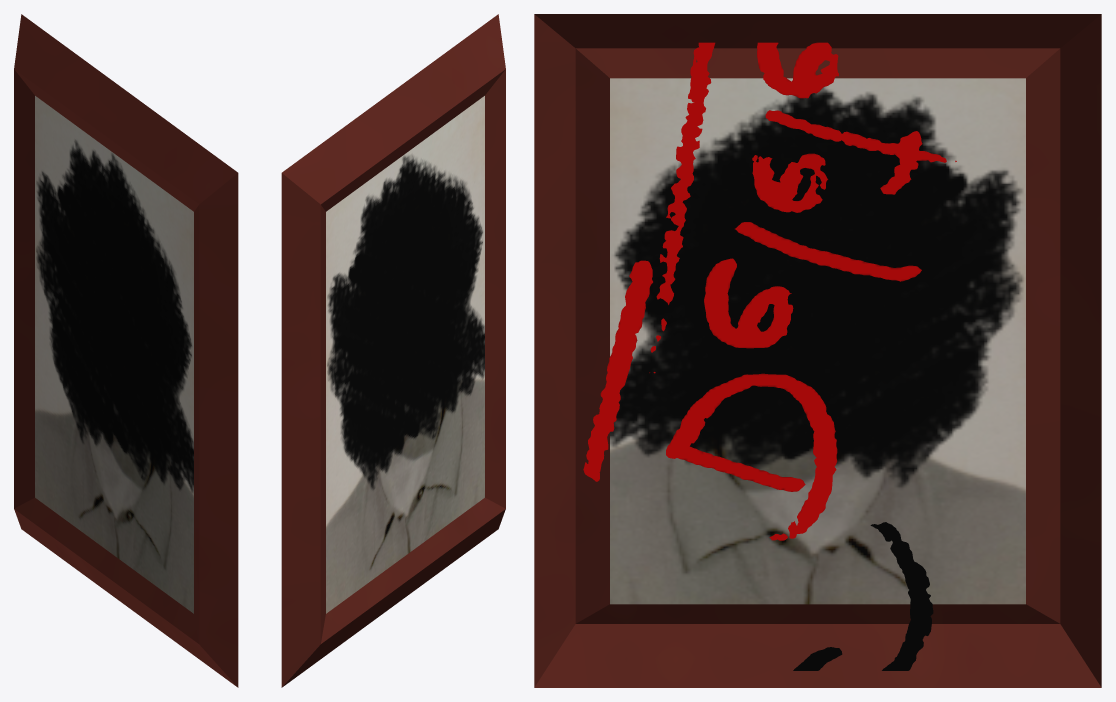
File: Cuadro3.fbx
3 renders of one model, left to right at view 1: azimuth 30°, elevation 25°; view 2: azimuth 150°, elevation 25°; view 3: azimuth 270°, elevation 25°, orthographic. The views are drawn at different scales.
Parts seen in each view (by area): view 1: Cuadro; view 2: Cuadro; view 3: Cuadro.
Boxes of the visible parts, x1,y1,x2,y2 form: Cuadro: (14,14,238,687); Cuadro: (281,14,505,687); Cuadro: (534,14,1101,687).
Size of the model in its own units: 5.62 by 85.77 by 65.46.
